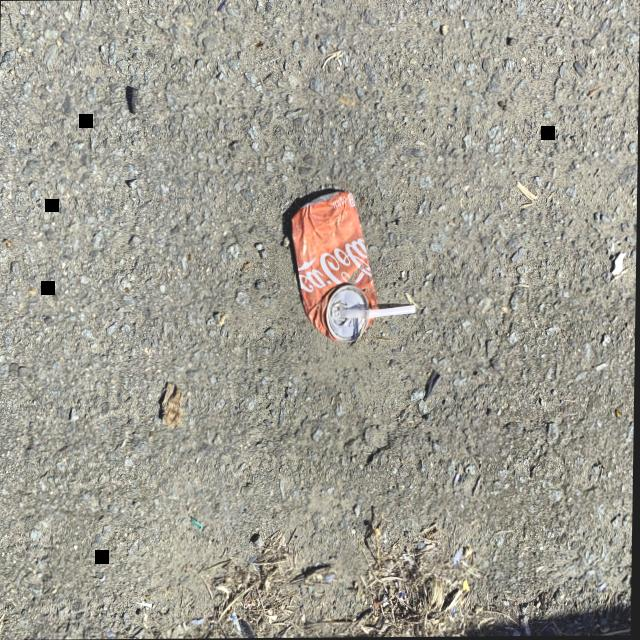Drink can: (292, 191, 379, 342)
Other plastic bottle: (423, 370, 442, 402)
Plastic straw: (341, 304, 415, 318)
Pop tab: (332, 302, 347, 320)
